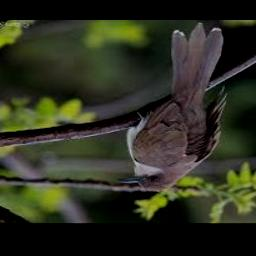Cuckoo: (117, 23, 229, 192)
